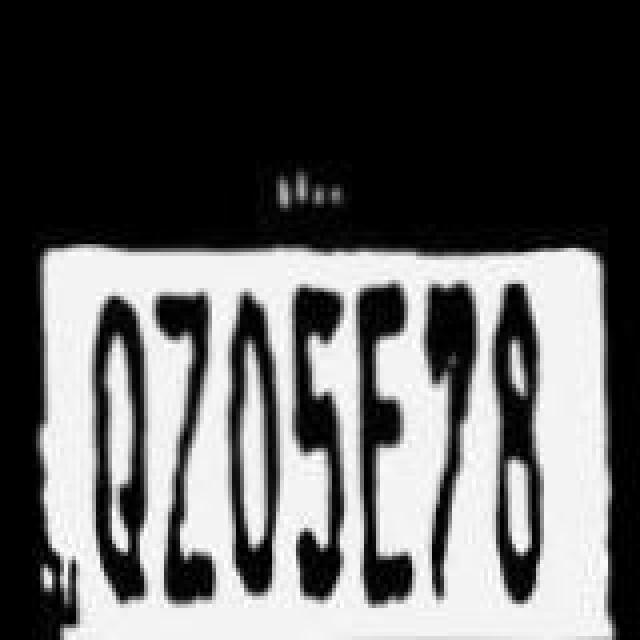5: (286, 276, 346, 608)
7: (426, 278, 494, 602)
8: (488, 280, 568, 608)
E: (348, 272, 428, 608)
O: (216, 284, 280, 588)
Q: (88, 296, 152, 608)
Z: (150, 284, 218, 604)
